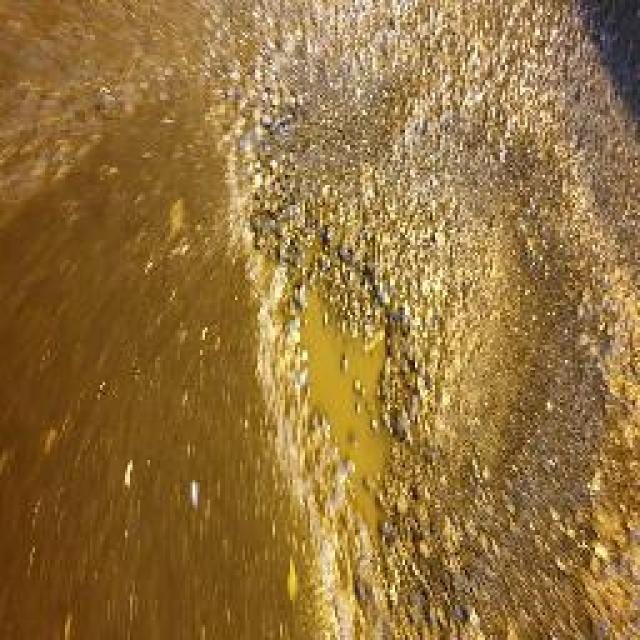stagnation: (247, 211, 439, 561)
